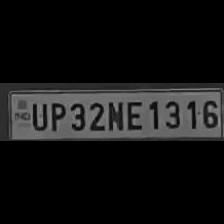1: (144, 98, 160, 130), (182, 97, 198, 129)
2: (87, 99, 105, 131)
3: (162, 98, 180, 130), (67, 99, 85, 130)
6: (199, 97, 219, 129)
E: (124, 97, 144, 130)
N: (105, 99, 123, 131)
P: (48, 99, 66, 130)
U: (28, 99, 46, 130)
